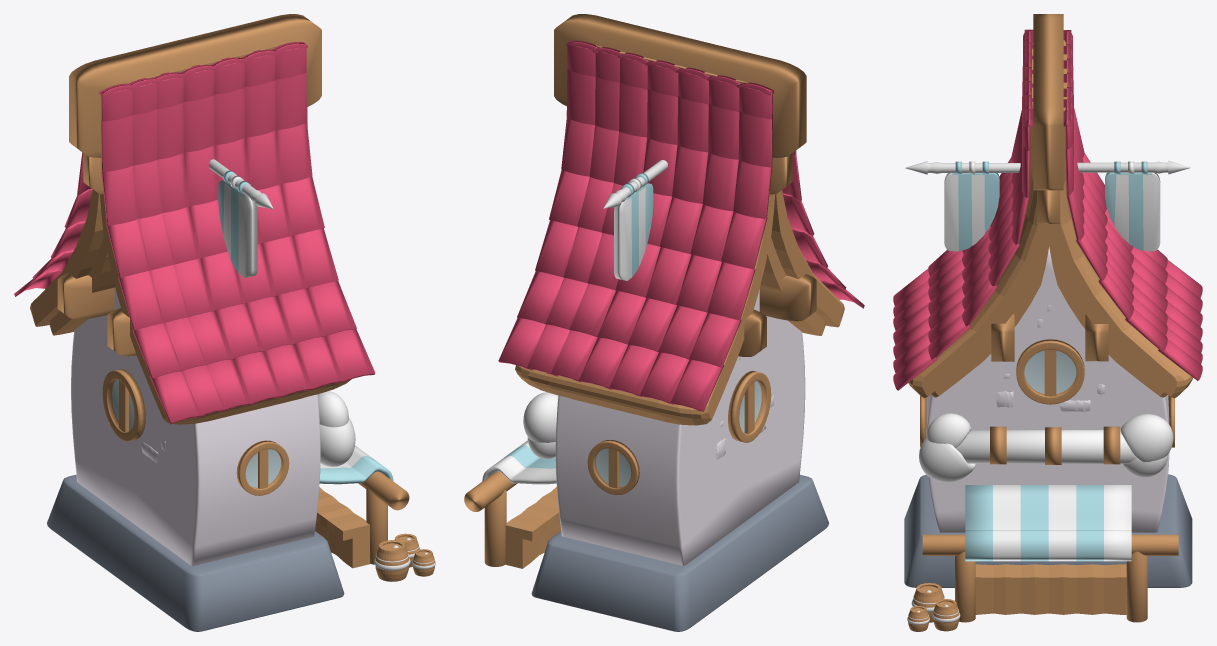
File: Itemshop.fbx
3 views of the same model, side by side, from view 1: azimuth 30°, elevation 25°; view 2: azimuth 150°, elevation 25°; view 3: azimuth 270°, elevation 25° (orthographic). The views are drawn at different scales.
Parts seen in each view (by area): view 1: Plane.037, Cube.083, Cube.084, Cube.082, Plane.046, Cube.019, Cube.077, Plane.036, Cube.078, Cylinder.025, Cylinder.023, Plane.038 (+9 smaller); view 2: Plane.036, Cube.083, Cube.084, Cube.082, Plane.046, Cube.030, Cube.077, Plane.037, Cube.079, Cylinder.025, Cylinder.024, Plane.038 (+7 smaller); view 3: Cube.083, Plane.036, Plane.037, Plane.038, Plane.046, Cube.077, Cube.084, Cube.082, Cylinder.061, Cube.030, Cube.019, Cylinder.003 (+19 smaller).
Part boxes in pixels (x1,y1,x2,y2): Plane.037: (99,42,375,424); Cube.083: (71,287,320,565); Cube.084: (47,474,344,631); Cube.082: (69,14,321,157); Plane.046: (30,46,351,424); Cube.019: (218,180,257,277); Cube.077: (315,487,369,568); Plane.036: (14,152,92,296); Cube.078: (57,273,114,319); Cylinder.025: (102,369,145,441); Cylinder.023: (236,440,289,495); Plane.038: (319,445,393,484); Plane.036: (498,40,773,411); Cube.083: (555,289,805,565); Cube.084: (531,474,828,631); Cube.082: (554,14,806,157); Plane.046: (515,45,844,425); Cube.030: (614,183,653,280); Cube.077: (505,486,561,568); Plane.037: (782,150,864,308); Cube.079: (759,274,816,321); Cylinder.025: (728,370,771,442); Cylinder.024: (587,439,639,495); Plane.038: (482,440,556,484); Cube.083: (926,247,1169,532); Plane.036: (1063,30,1202,380); Plane.037: (893,29,1033,390); Plane.038: (965,485,1131,561); Plane.046: (908,40,1192,398); Cube.077: (975,564,1126,614); Cube.084: (904,474,1192,587); Cube.082: (1033,14,1063,190); Cylinder.061: (955,430,1135,463); Cube.030: (1105,172,1160,251); Cube.019: (944,173,999,251); Cylinder.003: (1016,339,1084,404).
Size of the model in its own units: 417 by 715 by 407.
